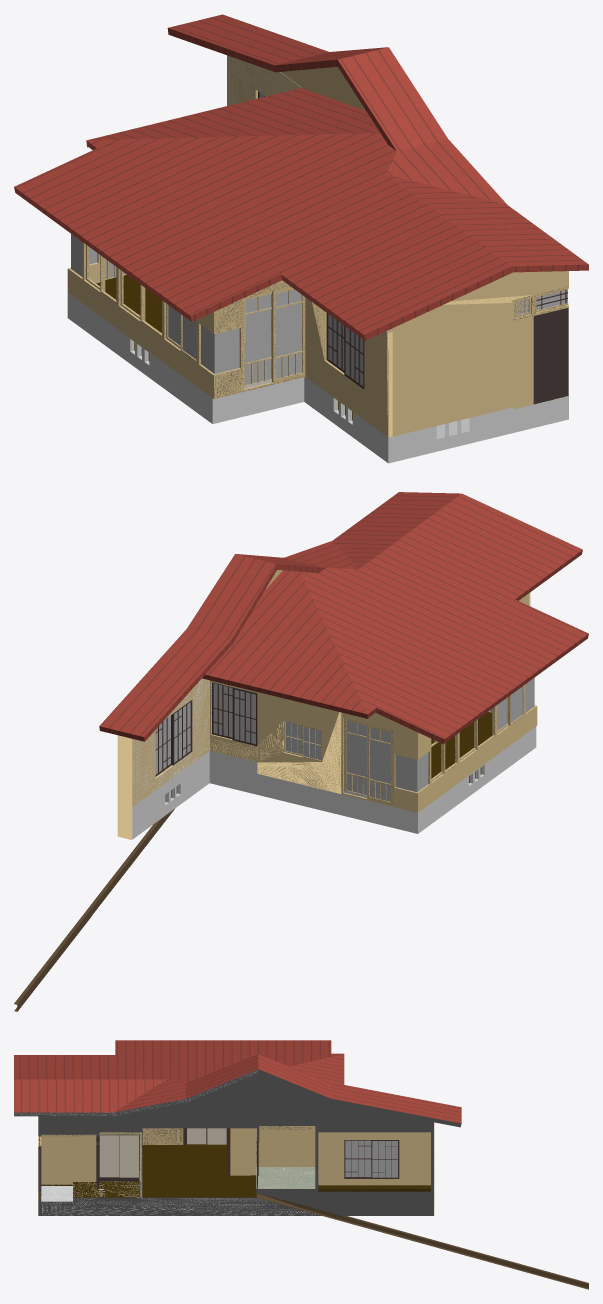
File: cooltube2.glb
3 renders of one model, top to bottom at view 1: azimuth 30°, elevation 25°; view 2: azimuth 150°, elevation 25°; view 3: azimuth 270°, elevation 25°, orthographic. The views are drawn at different scales.
Parts seen in each view (by area): view 1: group_0.133, group_0.001, group_0.628, group_0.068, group_0.345, group_0.662, group_0.284, group_0.009, group_0.021, group_0.072, group_0.117, group_0.115 (+4 smaller); view 2: group_0.133, group_0.001, group_0.068, group_0.662, group_0.138, group_0.072, group_0, group_0.120, group_0.512, group_0.529, group_0.008, group_0.011; view 3: group_0.137, group_0.133, group_0.659, group_0.624, group_0.650, group_0.138, group_0.131, group_0.627, group_0.643, group_0.094, group_0.067, group_5 (+8 smaller).
Boxes of the visible parts, x1,y1,x2,y2 form: group_0.133: [14, 14, 588, 340]; group_0.001: [67, 66, 568, 437]; group_0.628: [392, 300, 533, 436]; group_0.068: [67, 292, 568, 463]; group_0.345: [533, 308, 568, 403]; group_0.662: [227, 55, 300, 105]; group_0.284: [214, 280, 305, 399]; group_0.009: [201, 325, 239, 373]; group_0.021: [244, 287, 305, 389]; group_0.072: [96, 275, 161, 332]; group_0.117: [245, 309, 271, 362]; group_0.115: [276, 303, 301, 356]; group_0.133: [99, 492, 588, 743]; group_0.001: [117, 570, 537, 839]; group_0.068: [132, 726, 536, 839]; group_0.662: [132, 678, 209, 806]; group_0.138: [14, 809, 174, 1011]; group_0.072: [431, 712, 492, 778]; group_0: [343, 718, 393, 805]; group_0.120: [395, 752, 428, 791]; group_0.512: [212, 682, 257, 745]; group_0.529: [155, 700, 192, 776]; group_0.008: [346, 733, 366, 777]; group_0.011: [370, 740, 390, 783]; group_0.137: [14, 1069, 461, 1215]; group_0.133: [14, 1040, 461, 1123]; group_0.659: [318, 1132, 430, 1185]; group_0.624: [142, 1157, 256, 1197]; group_0.650: [41, 1136, 96, 1184]; group_0.138: [256, 1193, 588, 1289]; group_0.131: [259, 1129, 315, 1166]; group_0.627: [142, 1144, 227, 1162]; group_0.643: [230, 1128, 256, 1175]; group_0.094: [258, 1167, 315, 1188]; group_0.067: [73, 1181, 140, 1197]; group_5: [99, 1135, 119, 1177].
Bounding box in the file's own units: 10.75 × 11.76 × 27.79.
16 materials, 1 textured.
